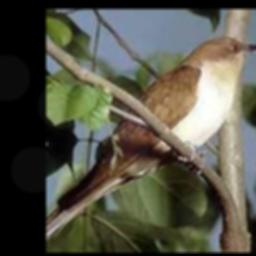Cuckoo: (46, 36, 256, 235)
